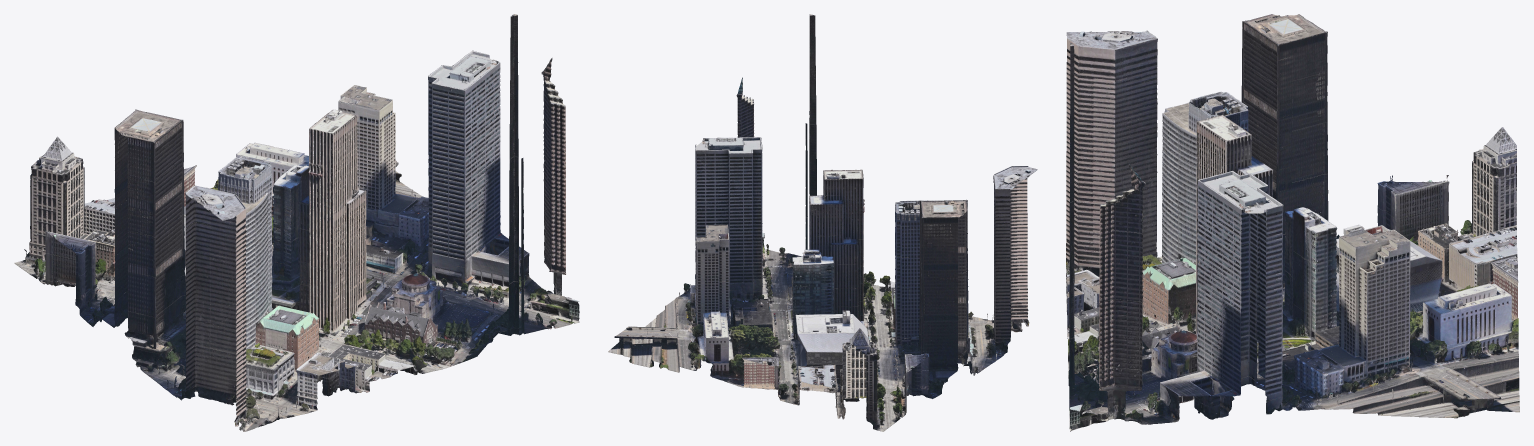
3 renders of one model, left to right at view 1: azimuth 30°, elevation 25°; view 2: azimuth 150°, elevation 25°; view 3: azimuth 270°, elevation 25°, orthographic. The views are drawn at different scales.
Visible parts, largest first — view 1: seattle_usa_sample_5, seattle_usa_sample_4, seattle_usa_sample_3, seattle_usa_sample_6, seattle_usa_sample_2, seattle_usa_sample_1; view 2: seattle_usa_sample_2, seattle_usa_sample_3, seattle_usa_sample_1, seattle_usa_sample_4, seattle_usa_sample_5, seattle_usa_sample_6; view 3: seattle_usa_sample_5, seattle_usa_sample_2, seattle_usa_sample_1, seattle_usa_sample_3, seattle_usa_sample_4, seattle_usa_sample_6.
Part boxes in pixels (box(x1,y1,x2,y2)): seattle_usa_sample_5: box(171, 58, 561, 431); seattle_usa_sample_4: box(153, 57, 508, 393); seattle_usa_sample_3: box(118, 50, 491, 379); seattle_usa_sample_6: box(235, 14, 579, 418); seattle_usa_sample_2: box(66, 85, 427, 327); seattle_usa_sample_1: box(14, 136, 405, 291); seattle_usa_sample_2: box(645, 206, 960, 398); seattle_usa_sample_3: box(673, 142, 986, 375); seattle_usa_sample_1: box(608, 311, 921, 431); seattle_usa_sample_4: box(698, 137, 999, 366); seattle_usa_sample_5: box(732, 77, 1037, 358); seattle_usa_sample_6: box(750, 14, 1007, 329); seattle_usa_sample_5: box(1066, 30, 1220, 424); seattle_usa_sample_2: box(1291, 14, 1444, 417); seattle_usa_sample_1: box(1403, 127, 1519, 418); seattle_usa_sample_3: box(1217, 14, 1332, 414); seattle_usa_sample_4: box(1179, 92, 1258, 417); seattle_usa_sample_6: box(1066, 42, 1108, 431).
Bounding box in the file's own units: 3.13 × 2.89 × 3.12.
Materials: 6 (6 with a texture image).
